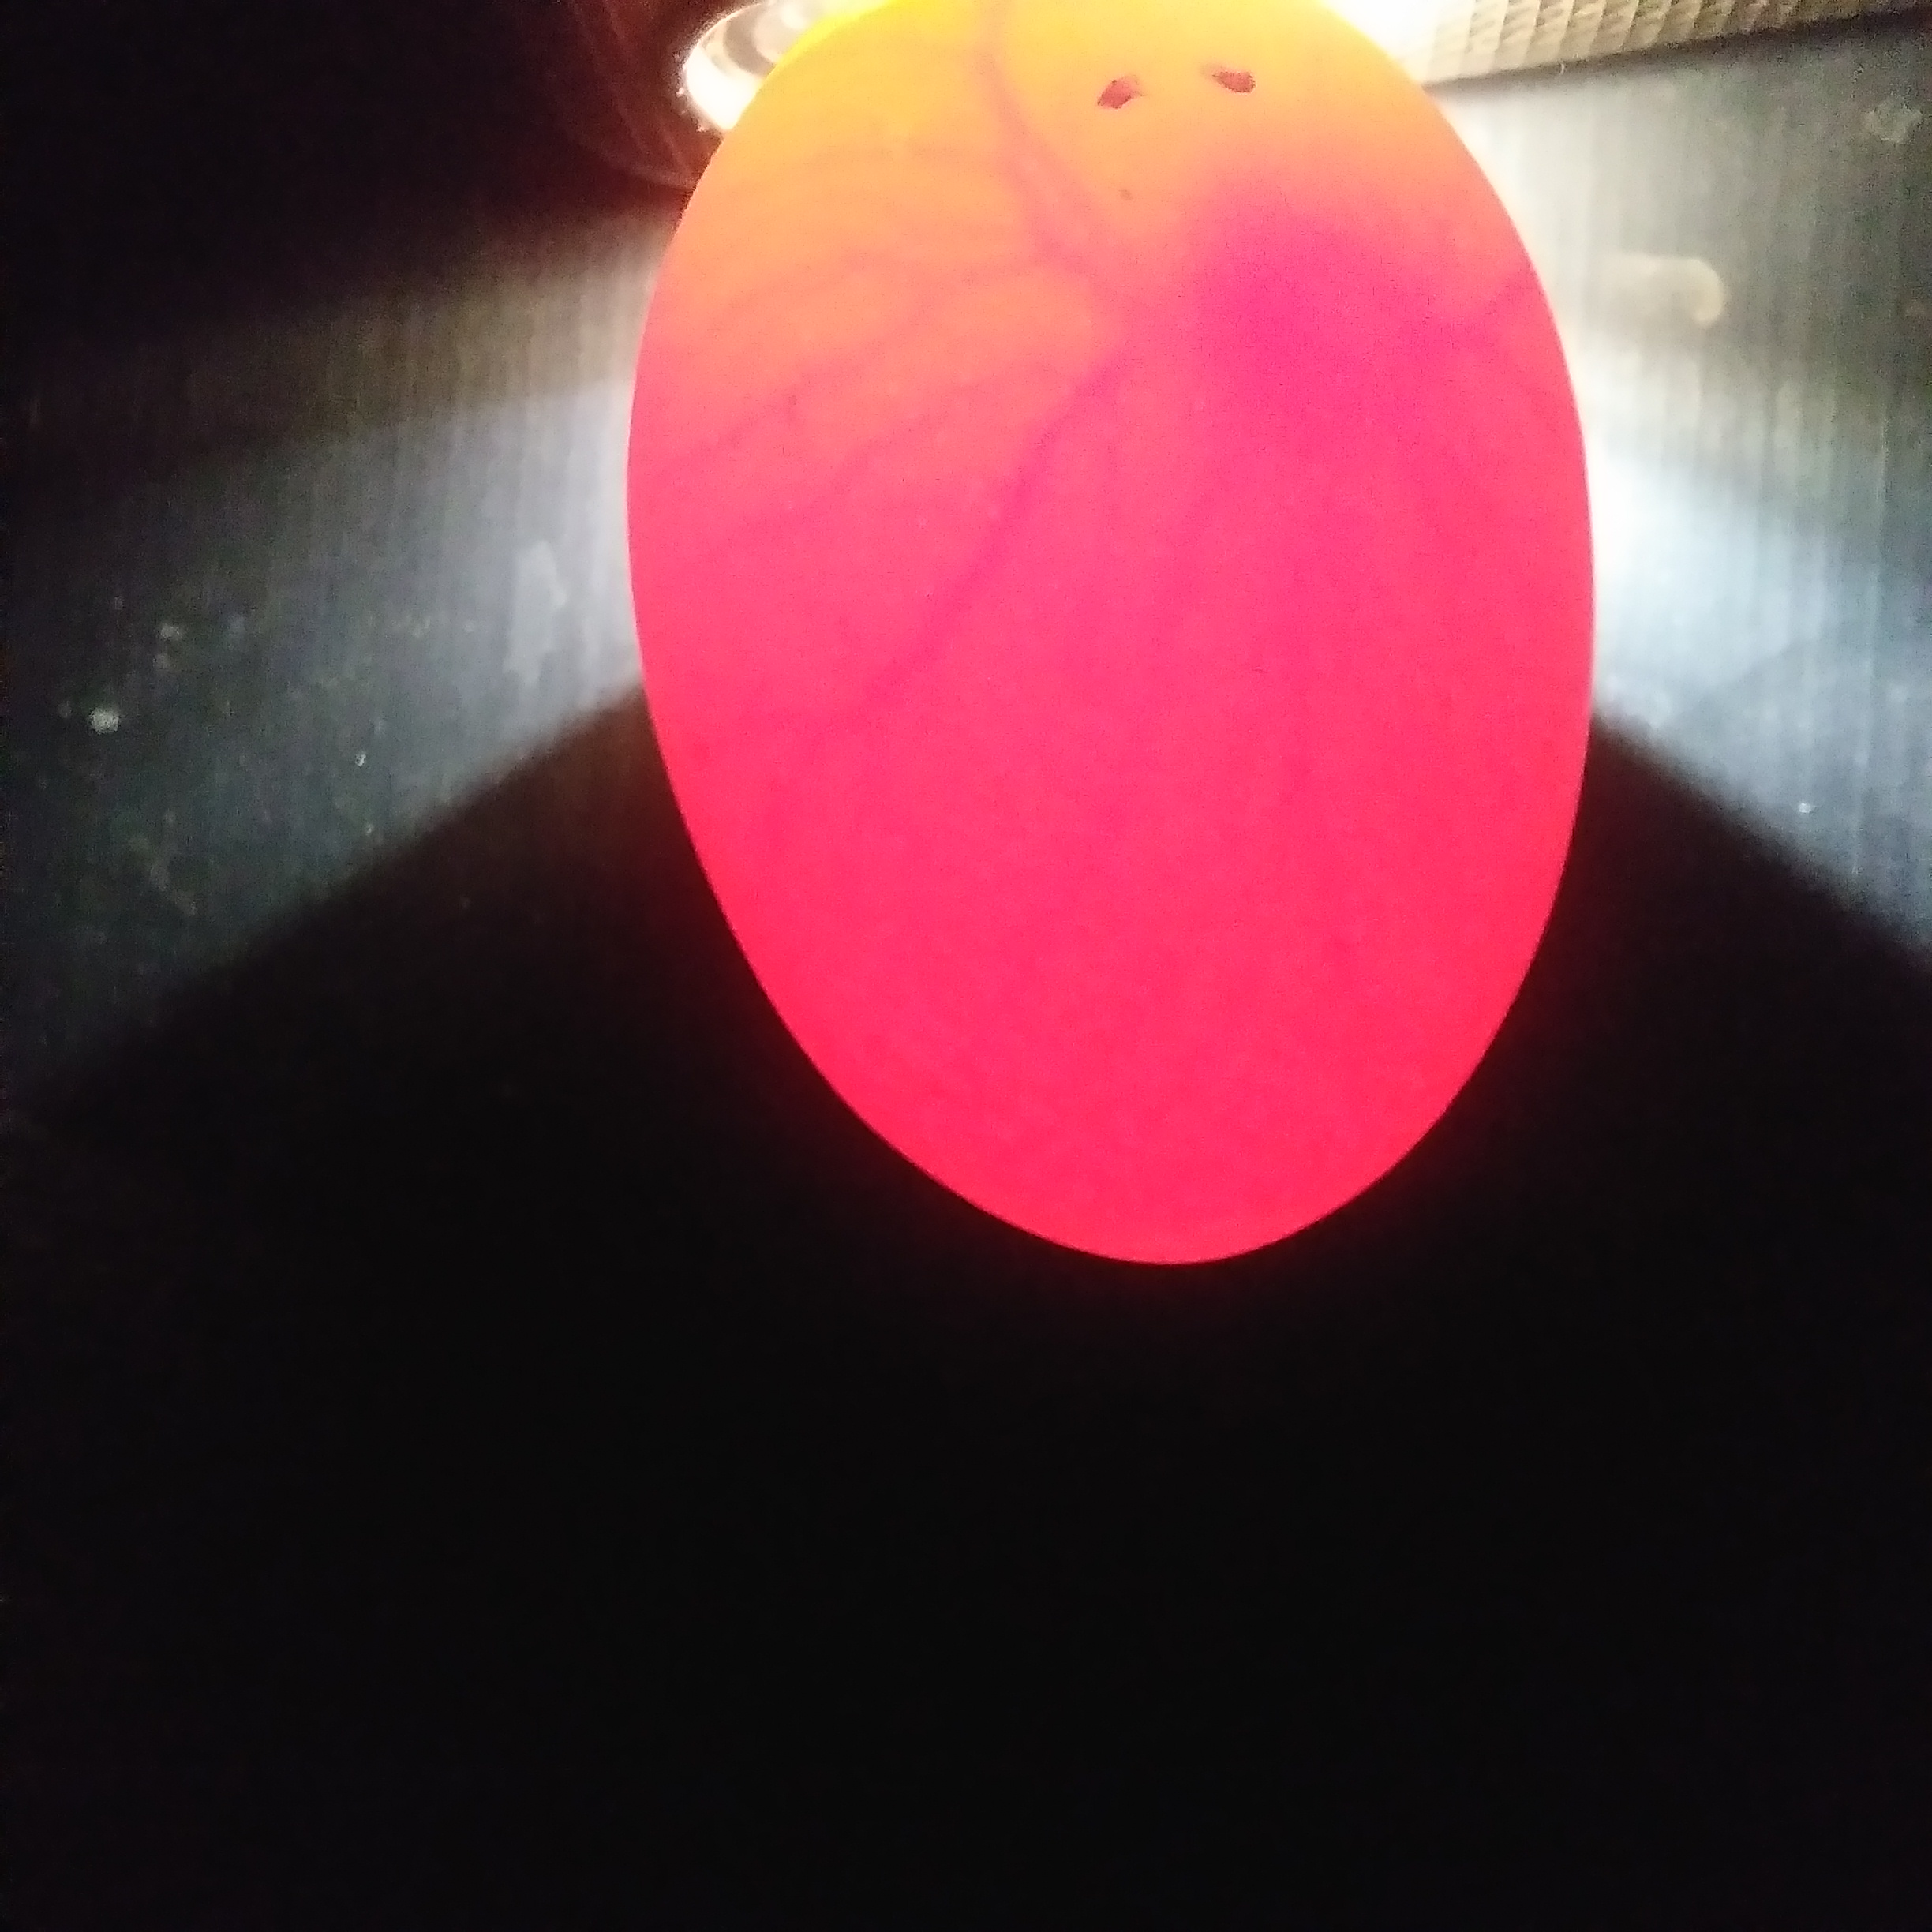bloodcell: (796, 80, 1129, 819)
embryo: (1215, 180, 1359, 439)
